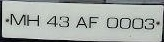character: (10, 13, 26, 26), (26, 13, 40, 27), (75, 16, 88, 29), (106, 16, 119, 29), (131, 17, 144, 30), (46, 14, 58, 27), (58, 15, 70, 28), (119, 16, 131, 29), (88, 15, 99, 29), (144, 17, 155, 30)
